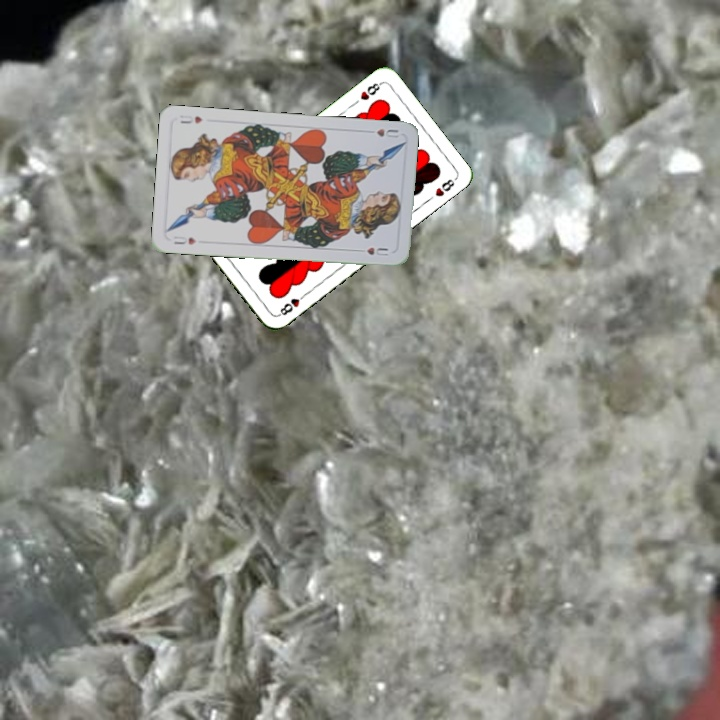H8: (274, 289, 309, 319), (356, 78, 384, 103)
HU: (373, 125, 401, 141), (170, 232, 198, 247)
